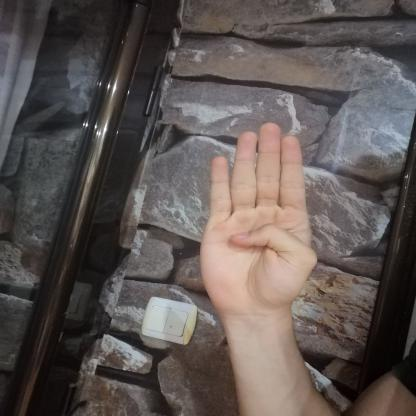KAAF: (187, 112, 329, 324)
